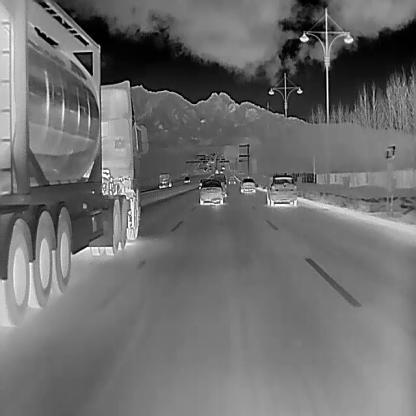car: (0, 0, 148, 328), (266, 174, 297, 206), (199, 178, 223, 205), (212, 172, 227, 196), (239, 177, 255, 193), (158, 171, 171, 188), (228, 172, 236, 184), (183, 175, 190, 183), (203, 166, 207, 171), (221, 165, 225, 169)
